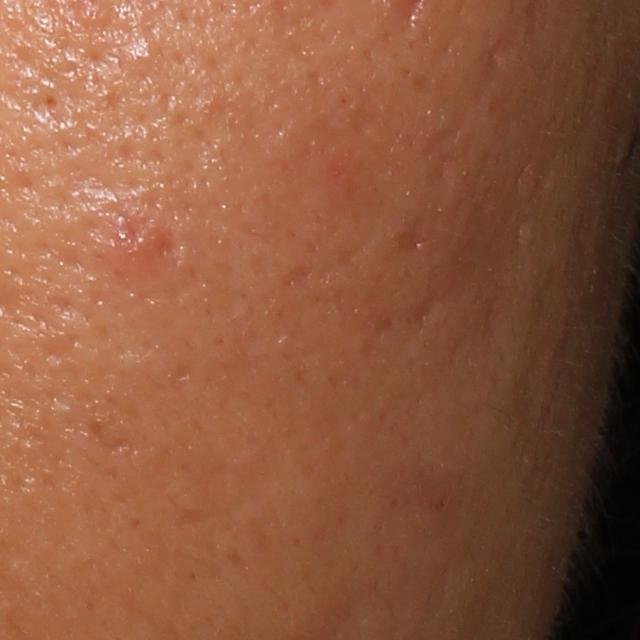atrophic_scar: (83, 417, 133, 459), (405, 283, 443, 331), (278, 263, 316, 292), (480, 39, 512, 72)
